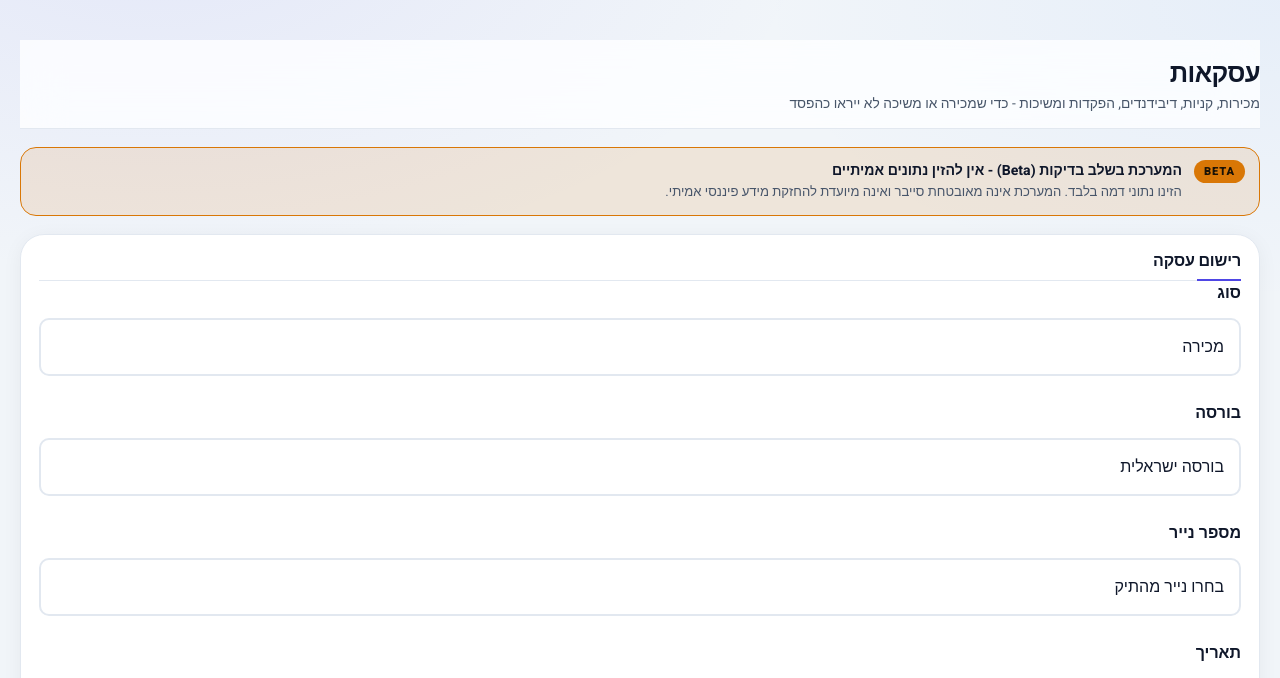
a server refusal is shown
Select "לאומי (604611) - 150 יח'" in the dropdown labelled "מספר נייר" at point(640, 587), box [39,558,1241,616]
(page scrolled)
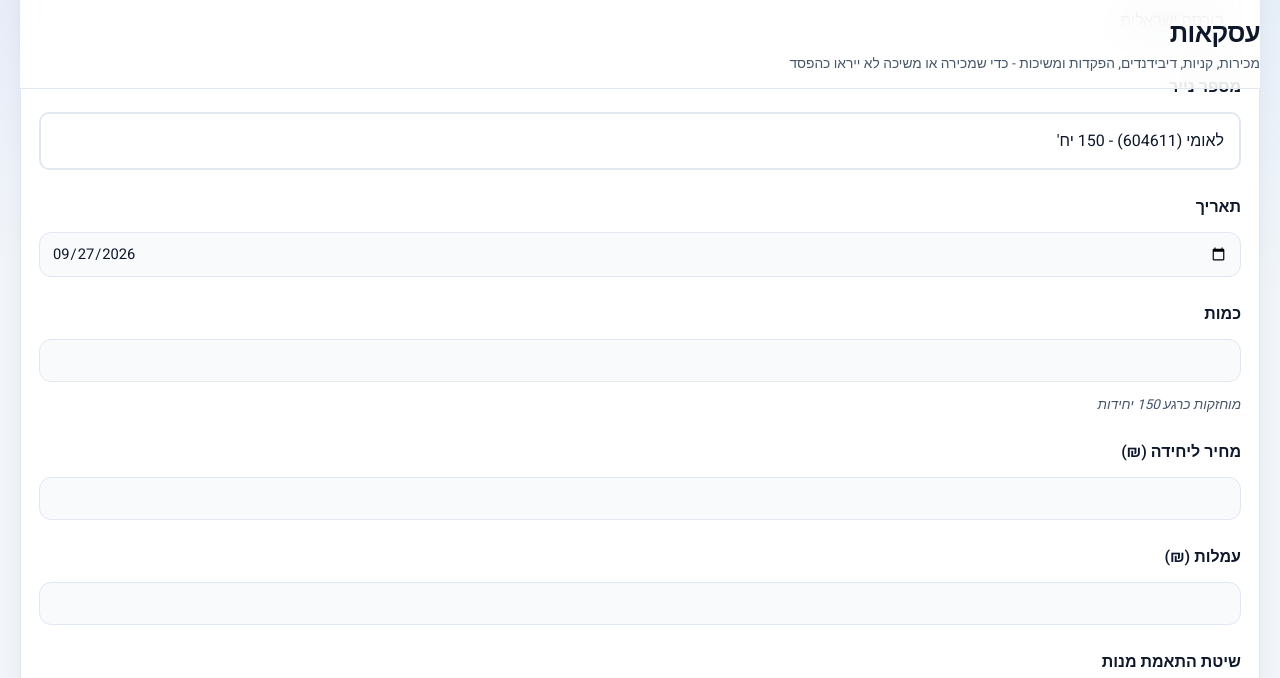
Type "999" into the number field labelled "כמות" at point(640, 360), box [39,339,1241,382]
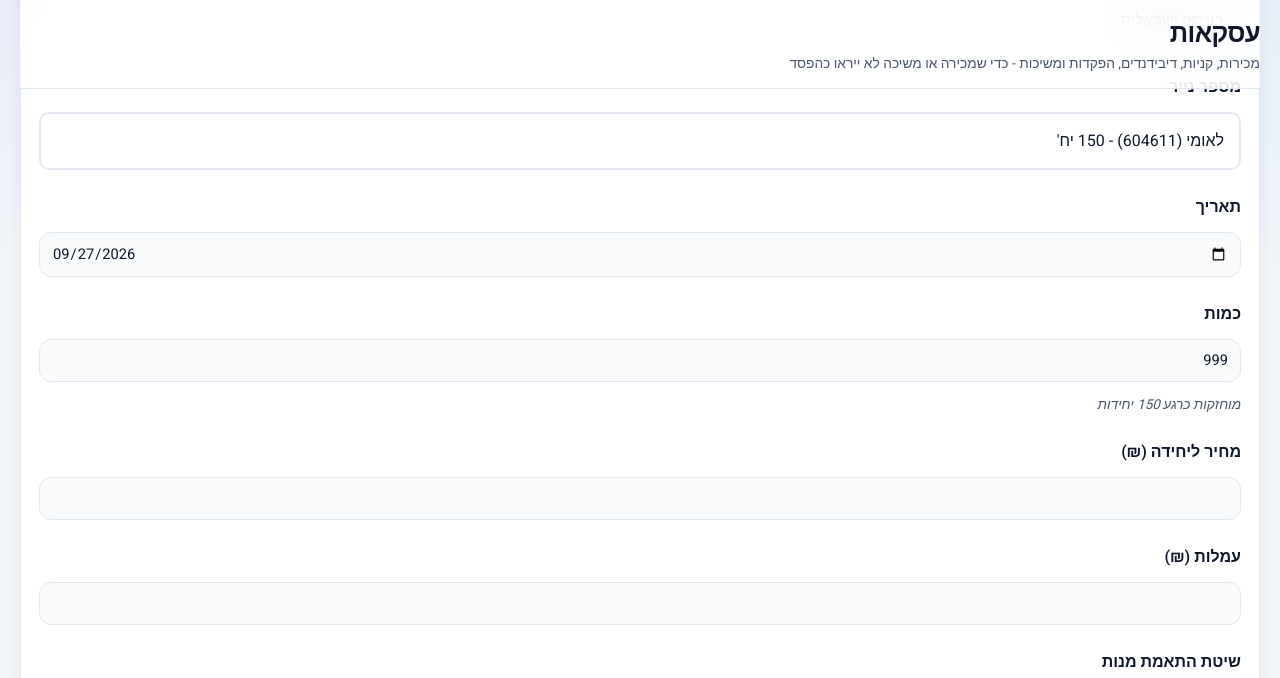
Type "40" into the number field labelled "מחיר ליחידה (₪)" at point(640, 498), box [39,477,1241,520]
(page scrolled)
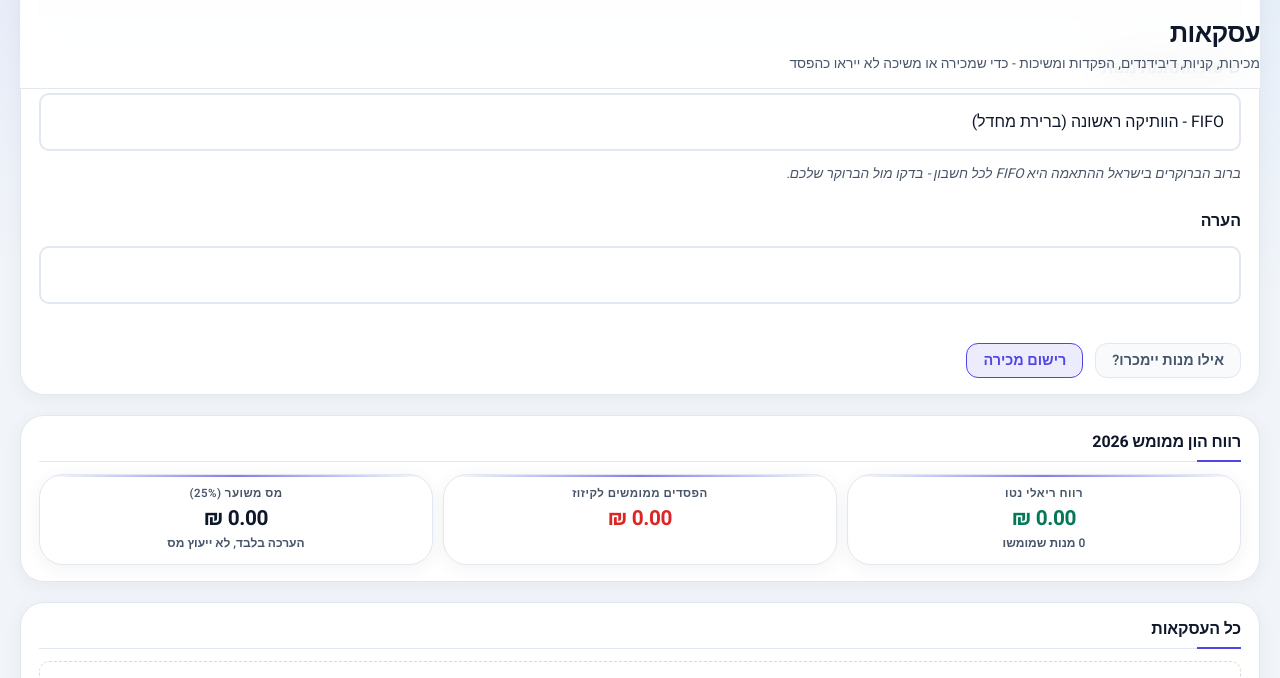
Click the button "רישום מכירה" at point(1025, 360), box [966,343,1083,378]
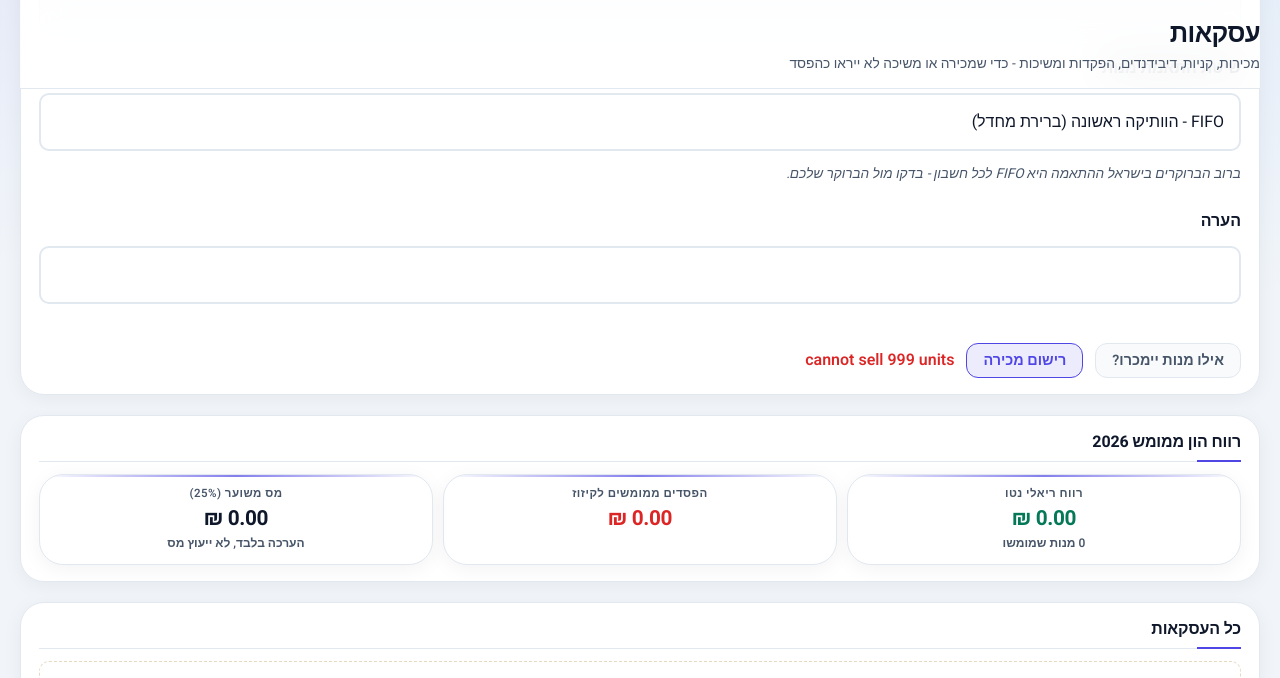
Expected: the message reads "cannot sell 999 units", [805,348,954,372]
